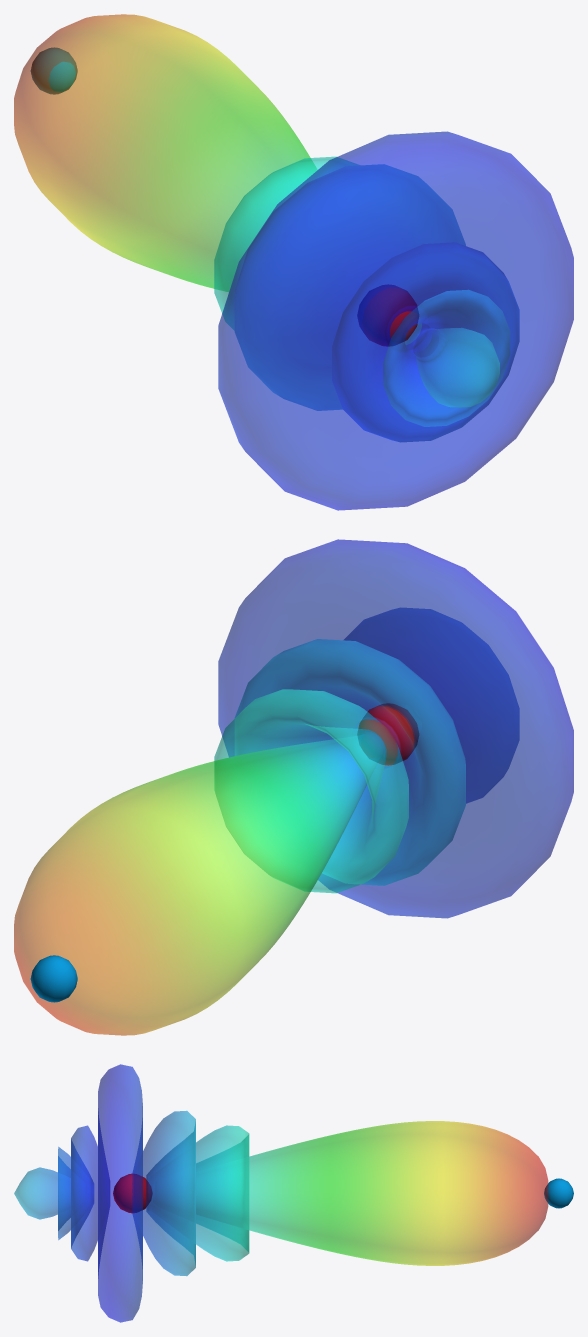
The model's file is bucxa cohuong.fbx.
3 renders of one model, top to bottom at view 1: azimuth 30°, elevation 25°; view 2: azimuth 150°, elevation 25°; view 3: azimuth 270°, elevation 25°, orthographic. The views are drawn at different scales.
Parts seen in each view (by area): view 1: dai_bucxa, A, M; view 2: dai_bucxa, A, M; view 3: dai_bucxa, A, M.
Part boxes in pixels (x1=…): dai_bucxa: x1=14, y1=14, x2=573, y2=510; A: x1=358, y1=285, x2=418, y2=346; M: x1=31, y1=47, x2=77, y2=94; dai_bucxa: x1=14, y1=539, x2=573, y2=1035; A: x1=357, y1=703, x2=418, y2=765; M: x1=30, y1=955, x2=77, y2=1002; dai_bucxa: x1=14, y1=1064, x2=548, y2=1322; A: x1=113, y1=1173, x2=152, y2=1213; M: x1=544, y1=1178, x2=573, y2=1208.
Size of the model in its own units: 12.9 by 13.1 by 28.27.
Materials: 3 (1 with a texture image).
